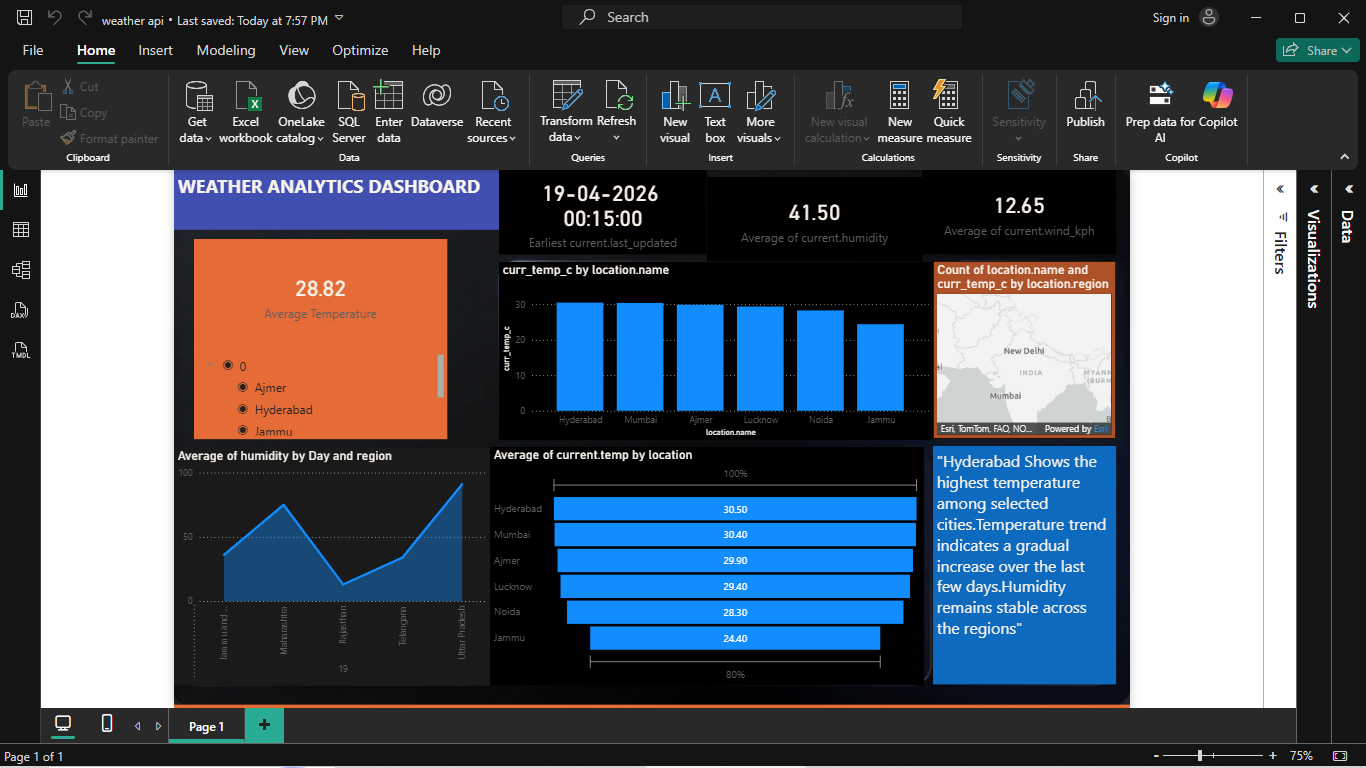

Layout of this report page (visuals, bound fields, positions):
{"tool":"powerbi","page":{"name":"Page 1","canvas":[1280,720],"ordinal":0},"visuals":[{"type":"slicer","fields":{"Values":["Current.current.is_day","Locations.location.name"]},"box":[26.2,242.2,338.6,118.4],"z":0},{"type":"card","fields":{"Values":["Avg(Current.current.temp_c)"]},"box":[26.2,92.2,338.6,150],"z":1000},{"type":"card","fields":{"Values":["Min(Current.current.last_updated)"]},"box":[434.9,0,278,112.9],"z":2000},{"type":"card","fields":{"Values":["Avg(Current.current.humidity)"]},"box":[712.9,9.6,287.7,112.9],"z":3000},{"type":"card","fields":{"Values":["Avg(Current.current.wind_kph)"]},"box":[1000.6,0,260.1,112.9],"z":4000},{"type":"columnChart","fields":{"Category":["Current.location.name"],"Y":["_Measures.curr_temp_c"]},"box":[434.9,122.5,580.8,238.1],"z":5000},{"type":"esriVisual","fields":{"Location":["Current.location.region"],"Color":["_Measures.curr_temp_c"],"Size":["CountNonNull(Current.location.name)"]},"box":[1016,122,245,238],"z":6000},{"type":"funnel","title":"Average of current.temp by location","fields":{"Category":["Current.location.name"],"Y":["Avg(Current.current.temp_c)"]},"box":[422.5,370.2,580.8,319.3],"z":7000},{"type":"areaChart","title":"Average of humidity by Day and region","fields":{"Category":["Current.location.localtime.Variation.Date Hierarchy.Day","Current.location.region"],"Y":["Sum(Current.current.humidity)"]},"box":[0,371.6,422.5,317.9],"z":8000},{"type":"textbox","box":[1016,370,245,319],"z":9000},{"type":"textbox","box":[0,0,434.9,79.8],"z":10000}]}

Visuals, with their boxes on the page's 1280x720 design canvas (x1, y1, x2, y2). These are canvas units, not pixel positions in the 1366x768 screenshot, which may show the page scaled, cropped or inside an application window:
slicer - Current.current.is_day x Locations.location.name: {"left": 26, "top": 242, "right": 365, "bottom": 361}
card - Avg(Current.current.temp_c): {"left": 26, "top": 92, "right": 365, "bottom": 242}
card - Min(Current.current.last_updated): {"left": 435, "top": 0, "right": 713, "bottom": 113}
card - Avg(Current.current.humidity): {"left": 713, "top": 10, "right": 1001, "bottom": 122}
card - Avg(Current.current.wind_kph): {"left": 1001, "top": 0, "right": 1261, "bottom": 113}
columnChart - Current.location.name x _Measures.curr_temp_c: {"left": 435, "top": 122, "right": 1016, "bottom": 361}
esriVisual - Current.location.region x _Measures.curr_temp_c: {"left": 1016, "top": 122, "right": 1261, "bottom": 360}
"Average of current.temp by location" funnel: {"left": 422, "top": 370, "right": 1003, "bottom": 690}
"Average of humidity by Day and region" areaChart: {"left": 0, "top": 372, "right": 422, "bottom": 690}
textbox: {"left": 1016, "top": 370, "right": 1261, "bottom": 689}
textbox: {"left": 0, "top": 0, "right": 435, "bottom": 80}
